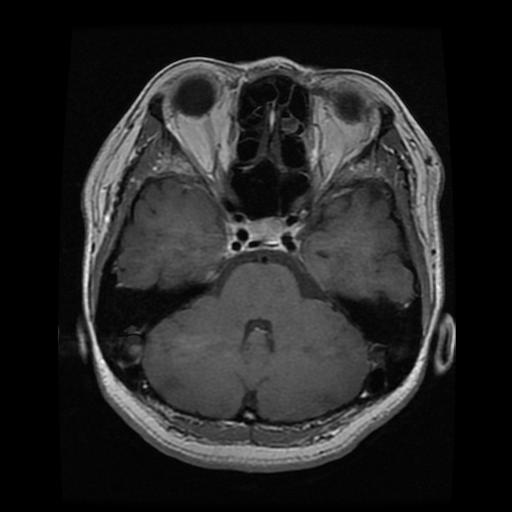Pituirity_tumour: (245, 216, 285, 243)
